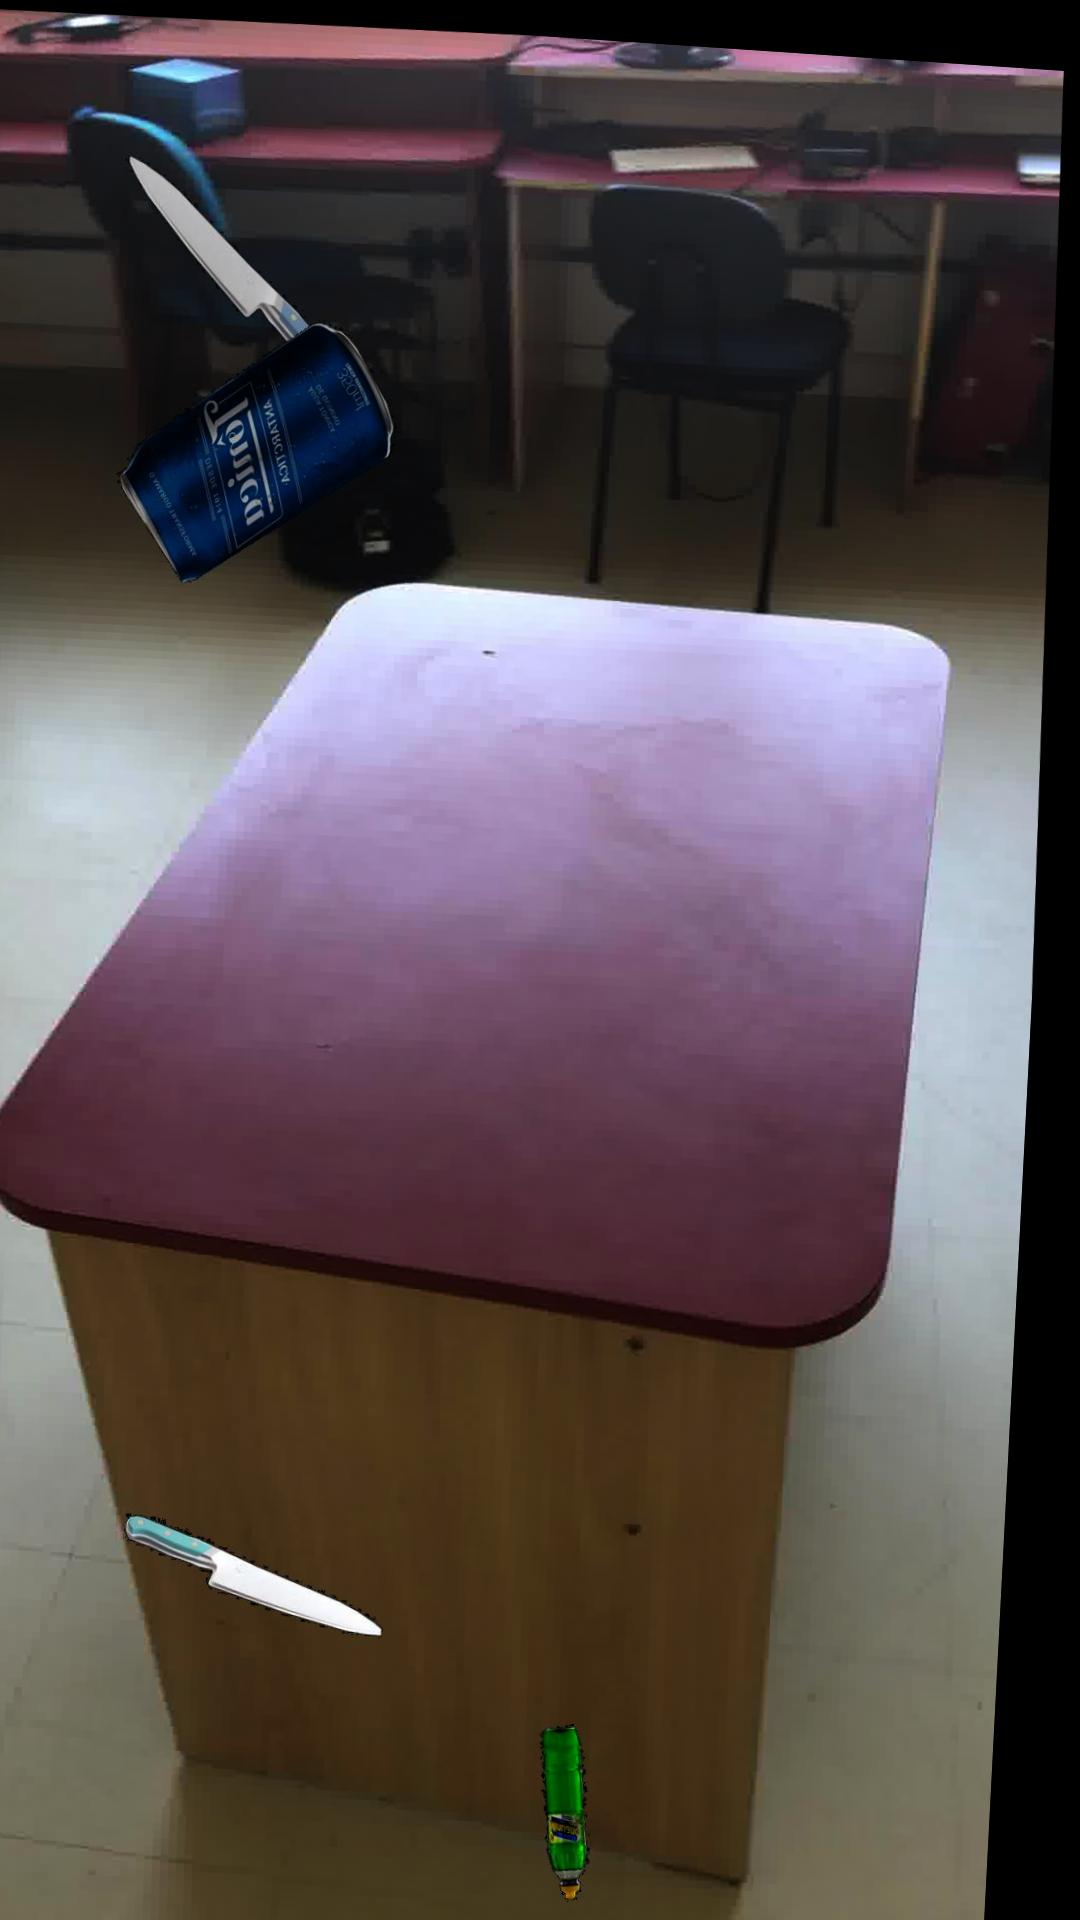cleaner: (560, 1714, 611, 1890)
knife: (131, 153, 315, 336), (142, 1510, 402, 1629)
tonic: (125, 316, 401, 579)
